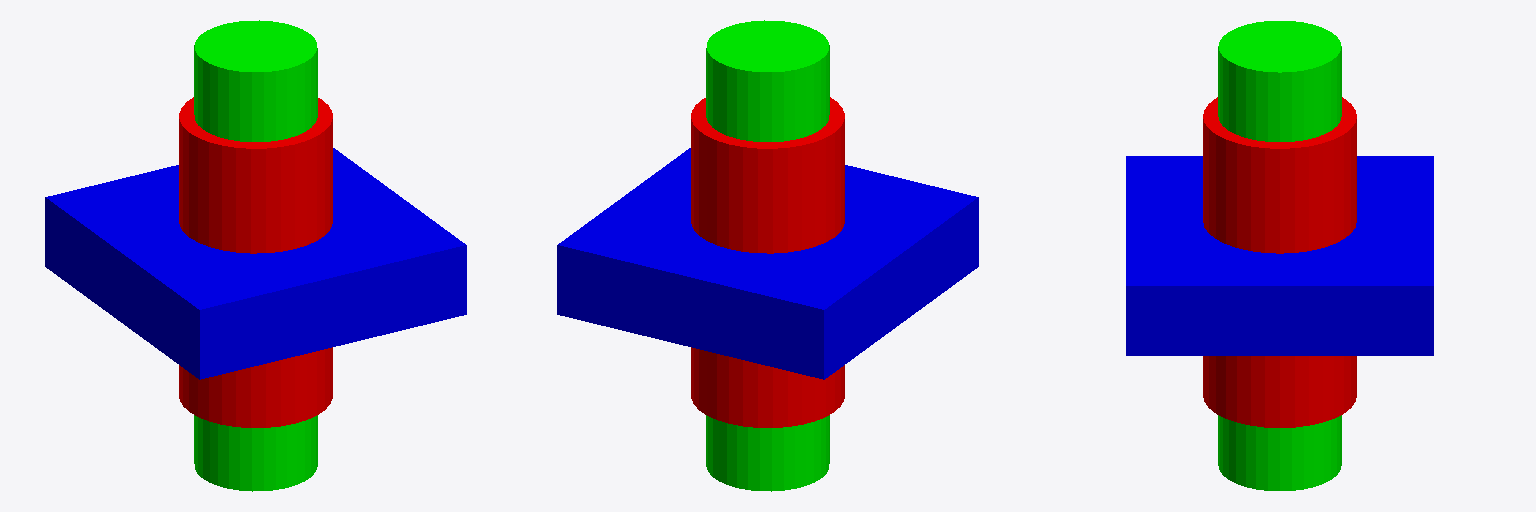
URDF robot description (robot_trr):
<?xml version="1.0"?>
<robot name="robot_trr" xmlns:xacro="http://www.ros.org/wiki/xacro">

  <!-- Link base -->
  <link name="base_link">
    <visual>
      <geometry>
        <box size="0.2 0.2 0.05"/>
      </geometry>
      <material name="blue">
        <color rgba="0 0 1 1"/>
      </material>
    </visual>
  </link>

  <!-- Primer eje: traslacional -->
  <joint name="joint1" type="prismatic">
    <parent link="base_link"/>
    <child link="link1"/>
    <axis xyz="0 0 1"/>
    <limit lower="0" upper="0.5" effort="10" velocity="0.5"/>
  </joint>

  <link name="link1">
    <visual>
      <geometry>
        <cylinder radius="0.05" length="0.2"/>
      </geometry>
      <material name="red">
        <color rgba="1 0 0 1"/>
      </material>
    </visual>
  </link>

  <!-- Segundo eje: rotacional -->
  <joint name="joint2" type="revolute">
    <parent link="link1"/>
    <child link="link2"/>
    <axis xyz="0 1 0"/>
    <limit lower="-1.57" upper="1.57" effort="5" velocity="1.0"/>
  </joint>

  <link name="link2">
    <visual>
      <geometry>
        <cylinder radius="0.04" length="0.3"/>
      </geometry>
      <material name="green">
        <color rgba="0 1 0 1"/>
      </material>
    </visual>
  </link>

  <!-- Tercer eje: rotacional -->
  <joint name="joint3" type="revolute">
    <parent link="link2"/>
    <child link="link3"/>
    <axis xyz="0 0 1"/>
    <limit lower="-3.14" upper="3.14" effort="5" velocity="1.0"/>
  </joint>

  <link name="link3">
    <visual>
      <geometry>
        <cylinder radius="0.03" length="0.2"/>
      </geometry>
      <material name="yellow">
        <color rgba="1 1 0 1"/>
      </material>
    </visual>
  </link>

</robot>

--- Facts derived from the render (not from the file) ---
The picture shows the robot from 3 angles, left to right: view 1: azimuth 30°, elevation 25°; view 2: azimuth 150°, elevation 25°; view 3: azimuth 270°, elevation 25°; orthographic projection.
Robot: robot_trr — 4 links, 3 joints (2 revolute, 1 prismatic); root link base_link; default pose: all joints at 0.
Links seen in each view (by area): view 1: base_link, link1, link2; view 2: base_link, link1, link2; view 3: base_link, link1, link2.
Boxes of the visible links, left/top/right/bottom form: base_link: left=45, top=148, right=466, bottom=379; link1: left=179, top=97, right=332, bottom=427; link2: left=194, top=20, right=317, bottom=491; base_link: left=557, top=148, right=978, bottom=379; link1: left=691, top=97, right=844, bottom=427; link2: left=706, top=20, right=829, bottom=491; base_link: left=1126, top=156, right=1433, bottom=355; link1: left=1203, top=97, right=1356, bottom=427; link2: left=1218, top=21, right=1341, bottom=490.
Bounding box of the posed robot: 0.2 × 0.2 × 0.3 m (x, y, z).
Geometry: primitives only (box / cylinder / sphere), no mesh files.